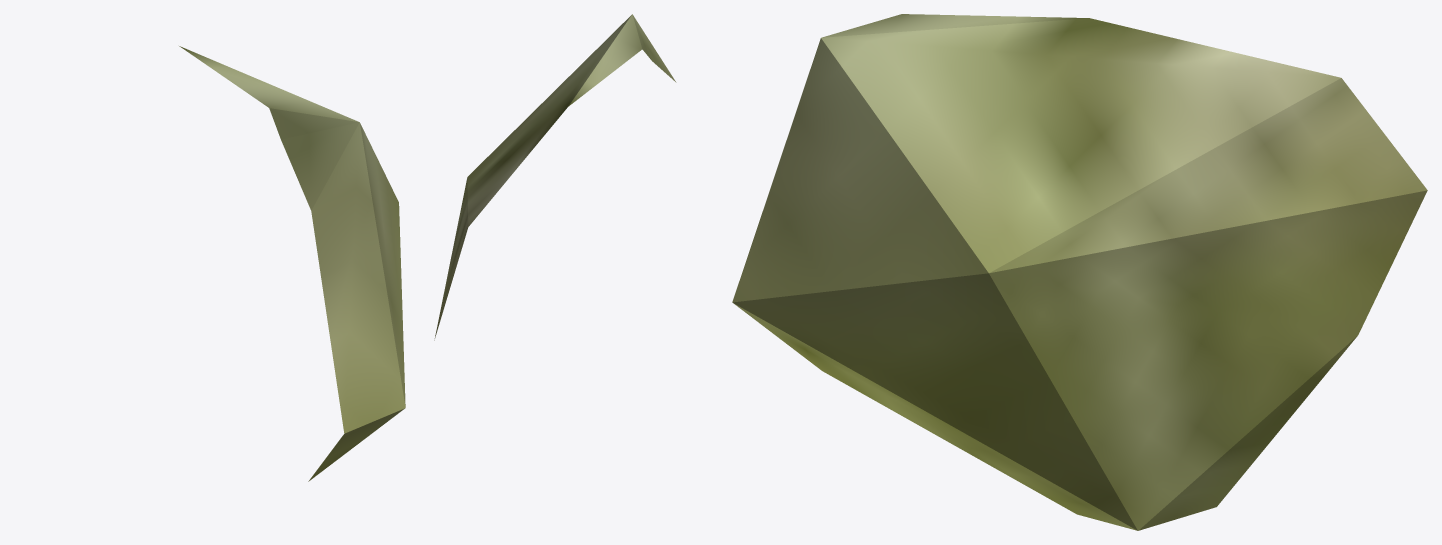
3 views of the same model, side by side, from view 1: azimuth 30°, elevation 25°; view 2: azimuth 150°, elevation 25°; view 3: azimuth 270°, elevation 25° (orthographic). The views are drawn at different scales.
Size of the model in its own units: 0.0475 by 0.1285 by 0.1611.
Materials: 1 (1 with a texture image).
